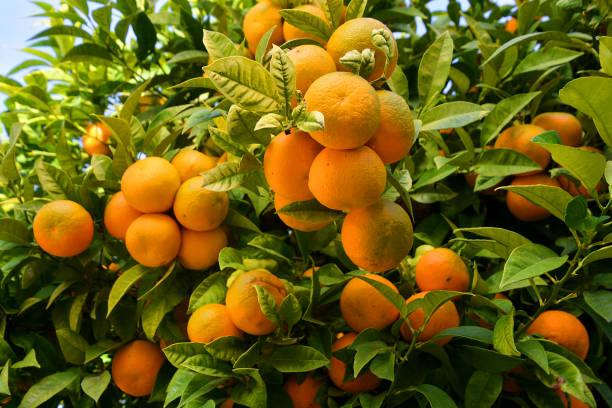orange: (308, 135, 419, 216), (304, 67, 380, 149), (251, 133, 325, 205), (328, 13, 403, 74), (338, 200, 405, 263), (221, 274, 291, 333), (364, 84, 424, 151), (517, 303, 590, 357), (127, 211, 189, 273), (411, 246, 484, 296), (188, 298, 245, 362), (116, 153, 174, 215), (353, 268, 409, 327), (33, 199, 89, 254), (412, 297, 471, 345), (113, 342, 172, 387), (177, 176, 227, 225), (277, 42, 330, 87), (247, 0, 292, 42), (181, 220, 222, 264)
